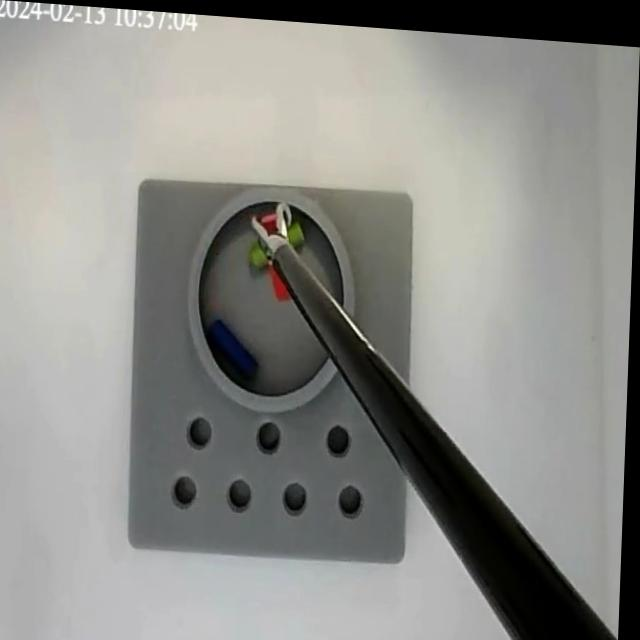EmptyHole: (340, 475, 368, 515), (327, 415, 356, 453), (285, 473, 312, 512), (257, 415, 286, 451), (176, 467, 202, 507), (229, 471, 257, 508), (189, 410, 216, 448)
